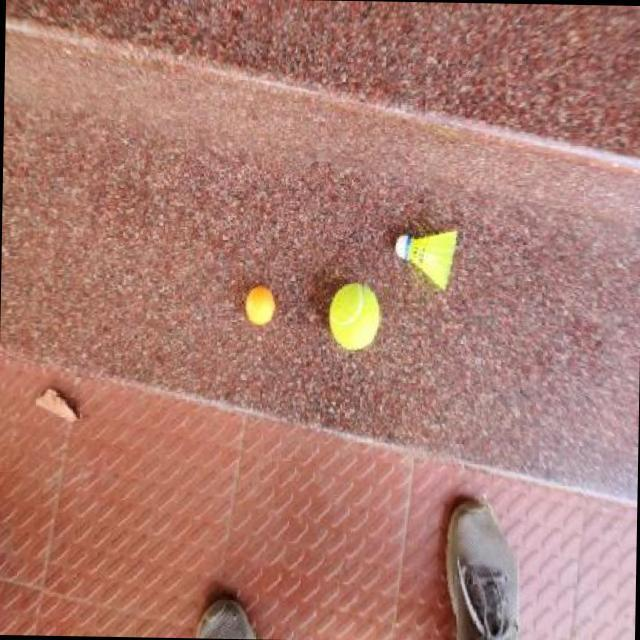-: (322, 266, 393, 363), (237, 279, 289, 334)
